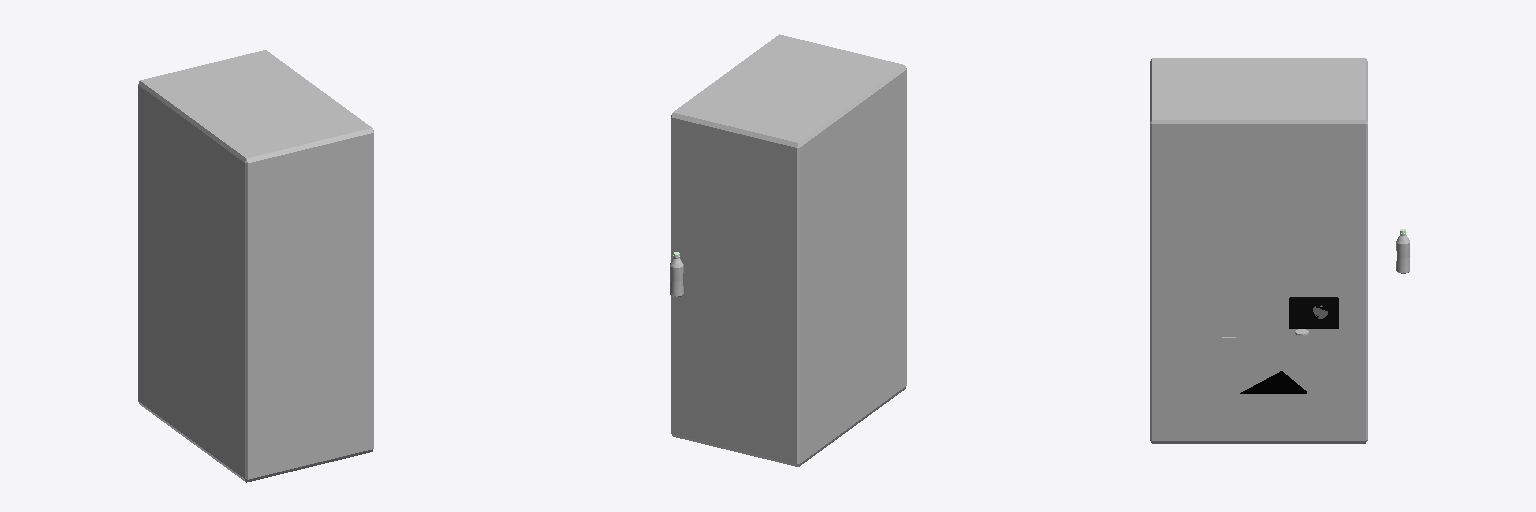
File: vending_machine.obj
The picture shows the model from 3 angles: view 1: azimuth 30°, elevation 25°; view 2: azimuth 150°, elevation 25°; view 3: azimuth 270°, elevation 25°; orthographic projection.
Parts seen in each view (by area): view 1: body_Cube; view 2: body_Cube, PetBottole.016_Cylinder.020; view 3: body_Cube, parts_Cube.004, PetBottole.016_Cylinder.020.
Part boxes in pixels (x1,y1,x2,y2): body_Cube: (138,50,373,482); body_Cube: (671,34,906,466); PetBottole.016_Cylinder.020: (670,252,683,296); body_Cube: (1150,58,1367,443); parts_Cube.004: (1289,297,1338,328); PetBottole.016_Cylinder.020: (1396,229,1409,273).
Size of the model in its own units: 3.48 by 7.2 by 5.25.